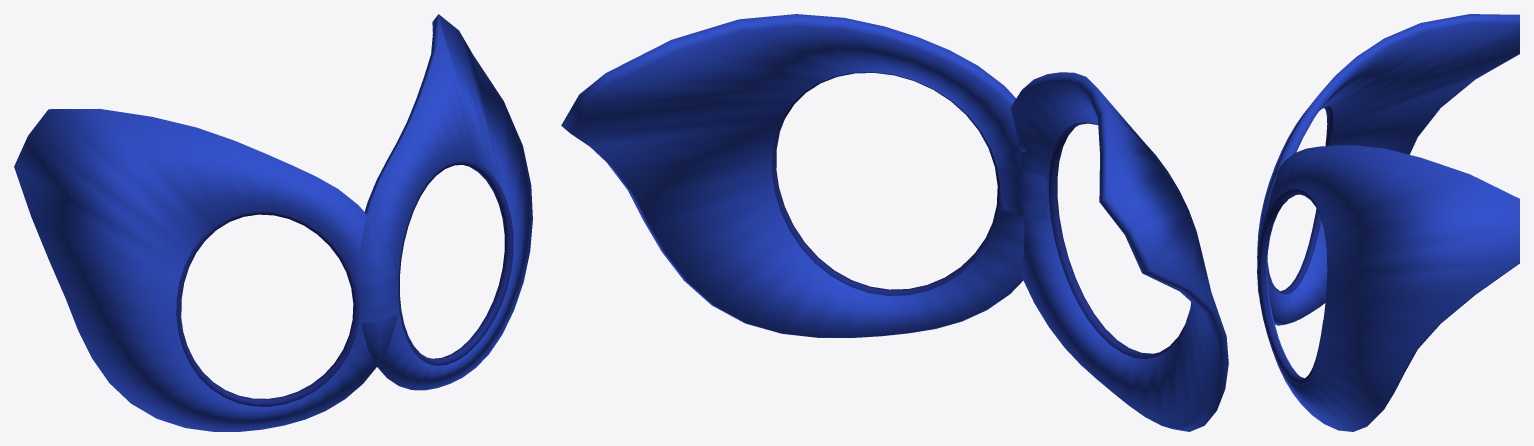
Rendered from acc_mask.glb.
The picture shows the model from 3 angles, left to right: view 1: azimuth 30°, elevation 25°; view 2: azimuth 150°, elevation 25°; view 3: azimuth 270°, elevation 25°; orthographic projection. The views are drawn at different scales.
Parts seen in each view (by area): view 1: AccMask; view 2: AccMask; view 3: AccMask.
Boxes of the visible parts, box(x1,y1,x2,y2) form: AccMask: box(14, 14, 532, 431); AccMask: box(561, 14, 1228, 431); AccMask: box(1257, 14, 1519, 431).
Size of the model in its own units: 0.4847 by 0.2753 by 0.2409.
